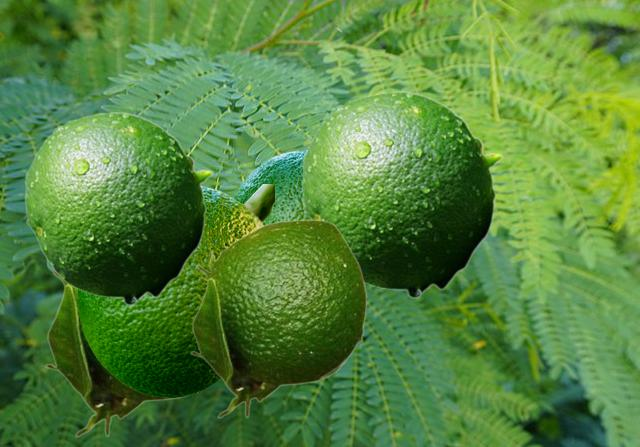dalandan: (301, 90, 502, 298), (77, 184, 273, 396), (24, 111, 212, 305), (189, 219, 366, 418), (44, 269, 186, 437), (233, 150, 308, 223)
